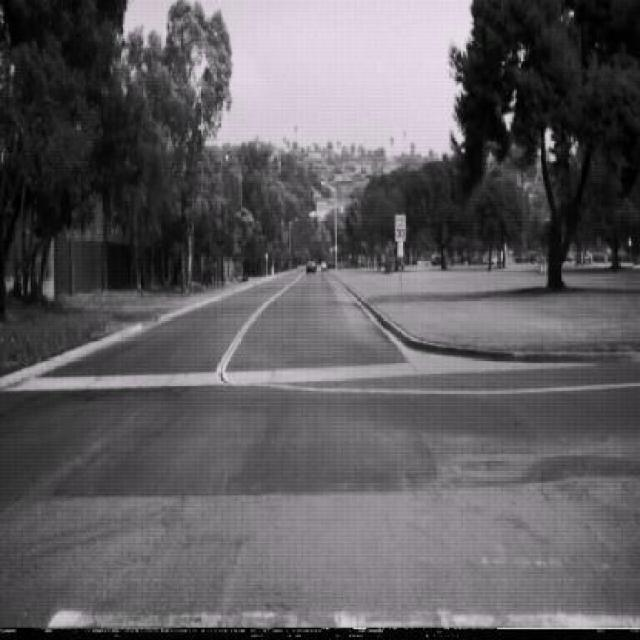speedLimit30: (394, 214, 406, 242)
